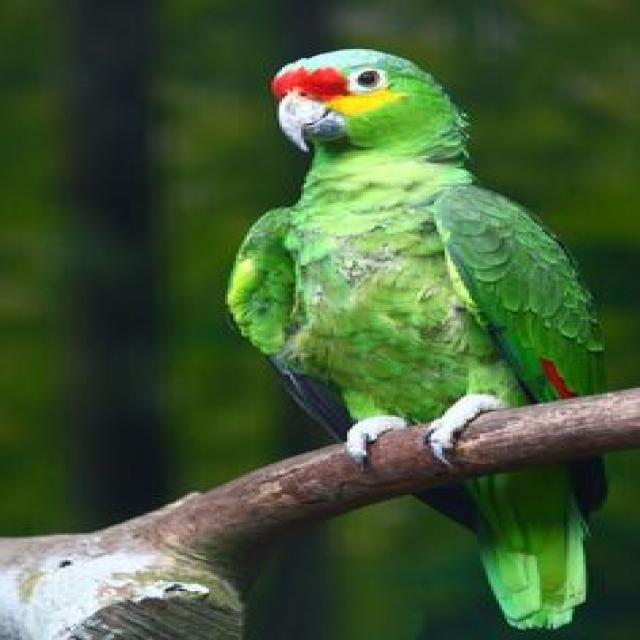Herbivorous: (225, 49, 610, 444), (420, 459, 607, 631)
